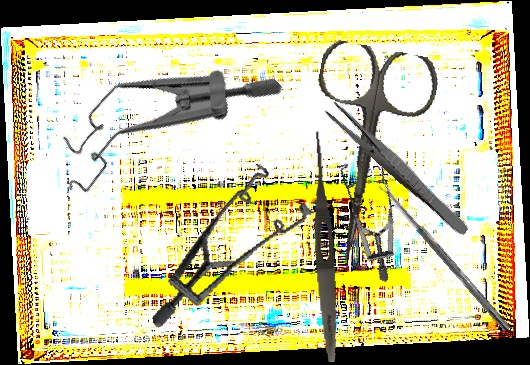Dressing Forceps: (322, 99, 474, 238), (305, 129, 343, 363)
Iris Scissors: (285, 37, 443, 271)
Speculum: (39, 0, 285, 250), (123, 154, 331, 329), (304, 144, 429, 283)
Surgical Spoon: (378, 181, 512, 332)
